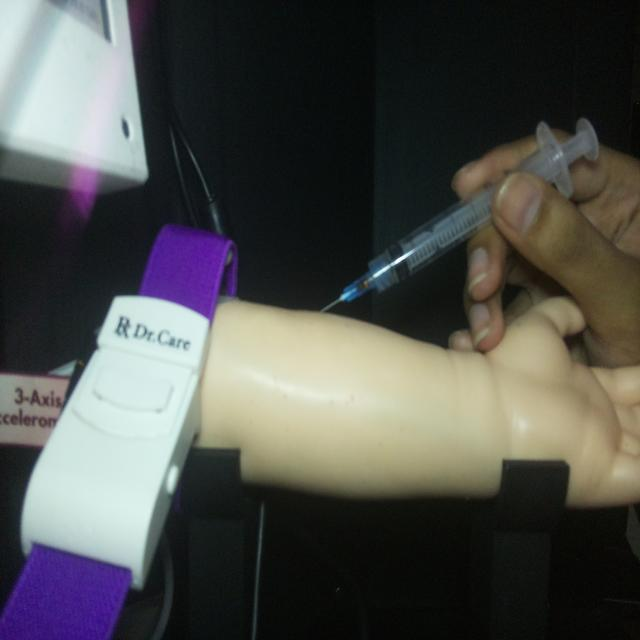24 degrees: (318, 113, 600, 314)
